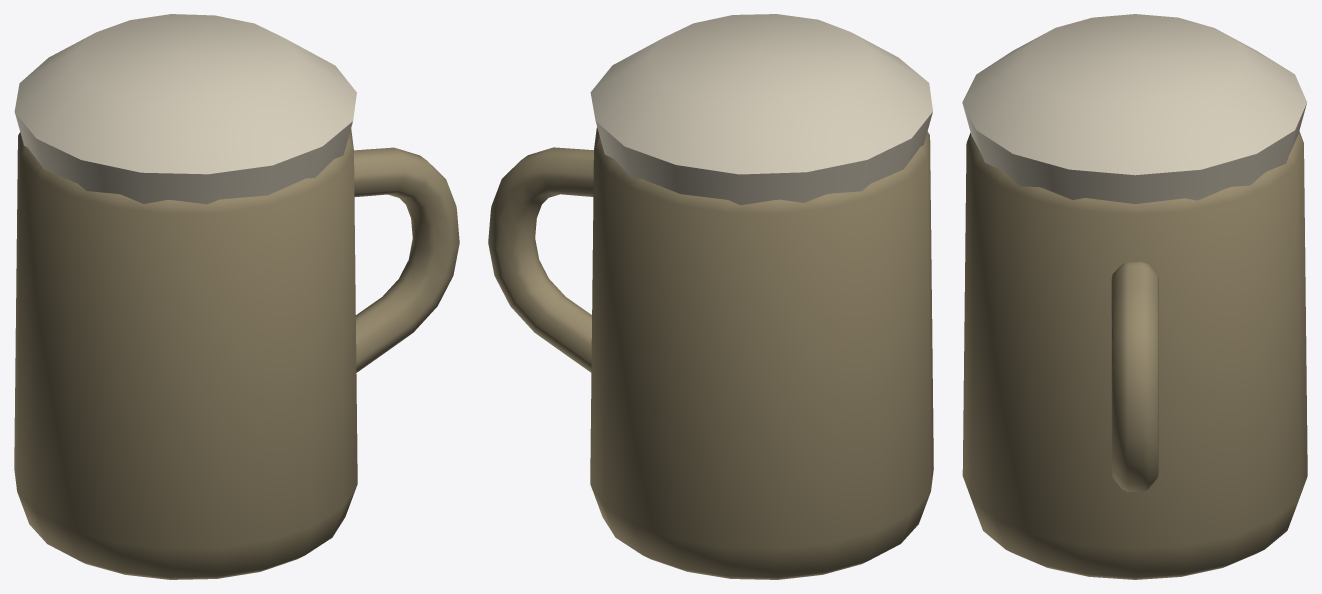
File: mug.glb
3 renders of one model, left to right at view 1: azimuth 30°, elevation 25°; view 2: azimuth 150°, elevation 25°; view 3: azimuth 270°, elevation 25°, orthographic.
Parts seen in each view (by area): view 1: Sammel Glatt; view 2: Sammel Glatt; view 3: Sammel Glatt.
Part boxes in pixels (x1,y1,x2,y2): Sammel Glatt: (14,14,459,579); Sammel Glatt: (488,14,933,579); Sammel Glatt: (962,14,1307,579).
Bounding box in the file's own units: 0.1289 × 0.136 × 0.0921.
